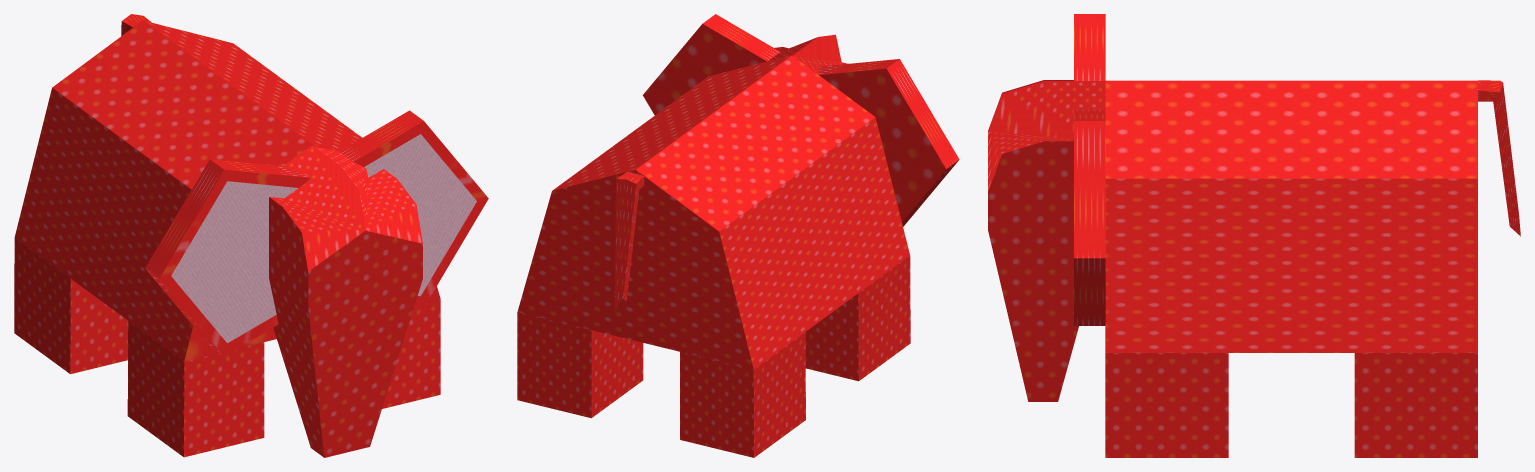
Rendered from Elephant_C.FBX.
The picture shows the model from 3 angles, left to right: view 1: azimuth 30°, elevation 25°; view 2: azimuth 150°, elevation 25°; view 3: azimuth 270°, elevation 25°; orthographic projection. The views are drawn at different scales.
Parts seen in each view (by area): view 1: Elephant; view 2: Elephant; view 3: Elephant.
Part boxes in pixels (bbox=[...]): Elephant: bbox=[14, 14, 488, 457]; Elephant: bbox=[517, 14, 959, 457]; Elephant: bbox=[988, 14, 1520, 457].
Bounding box in the file's own units: 67.47 × 57.23 × 86.1.
